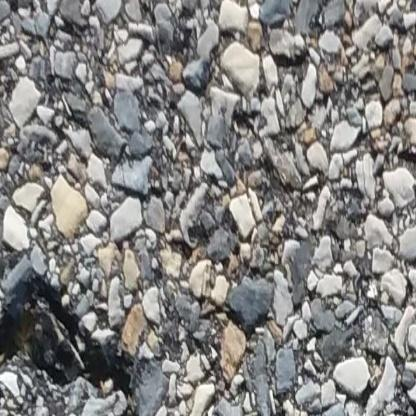Cracks: (0, 274, 153, 416)
